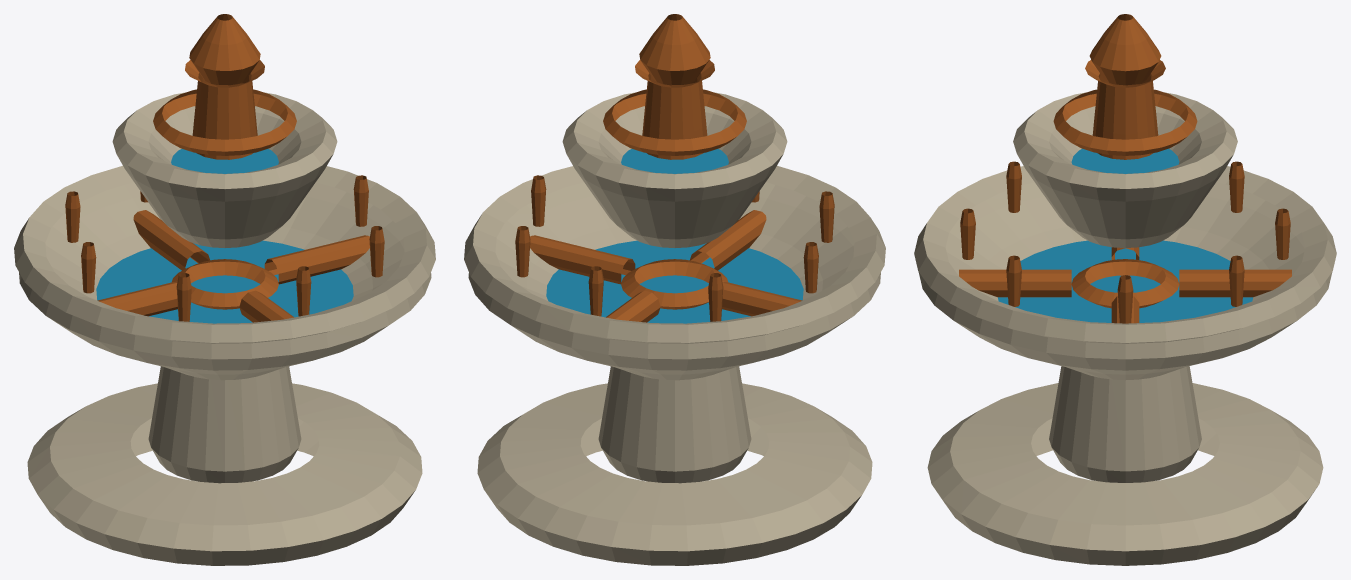
Rendered from public_drinking_fountain.obj.
The picture shows the model from 3 angles, left to right: view 1: azimuth 30°, elevation 25°; view 2: azimuth 150°, elevation 25°; view 3: azimuth 270°, elevation 25°; orthographic projection.
Parts seen in each view (by area): view 1: GTA_GHIBLI_Public_Drinking_Fountain; view 2: GTA_GHIBLI_Public_Drinking_Fountain; view 3: GTA_GHIBLI_Public_Drinking_Fountain.
Part boxes in pixels (x1,y1,x2,y2): GTA_GHIBLI_Public_Drinking_Fountain: [14, 14, 435, 565]; GTA_GHIBLI_Public_Drinking_Fountain: [464, 14, 885, 565]; GTA_GHIBLI_Public_Drinking_Fountain: [914, 14, 1336, 565].
Size of the model in its own units: 1.88 by 2.35 by 1.88.
